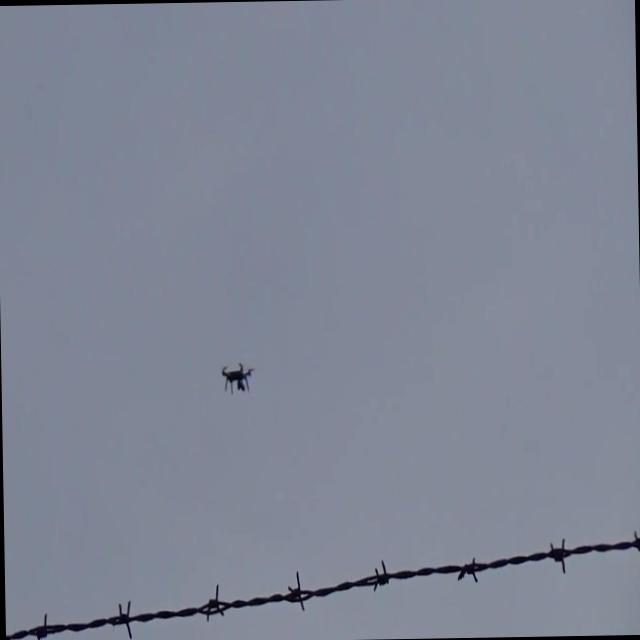drone: (219, 358, 256, 395)
